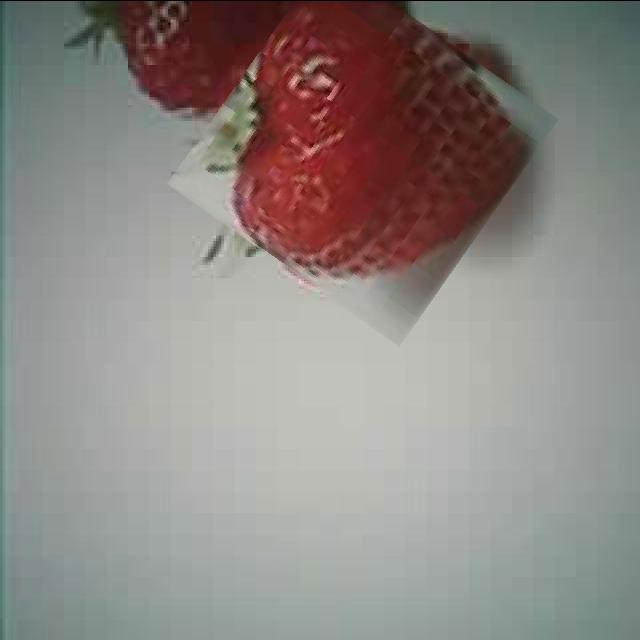strawberry: (194, 0, 532, 318)
